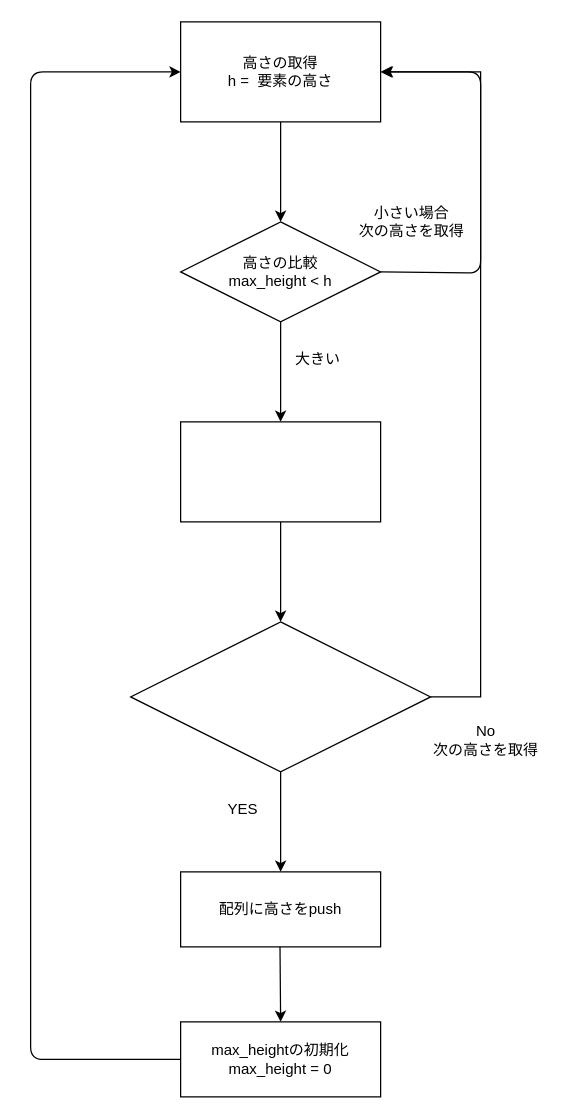
Some shapes in this 564 by 1119 pixel diagram are drawn without their labels. The centre of each missing label's shape, as x and y in pixels:
max_heightの値に取得した 高さを代入 max_height = h: (x=280, y=471)
カラム数の計測 指定したカラム数 もしくは最後のカラムか確認: (x=280, y=696)
